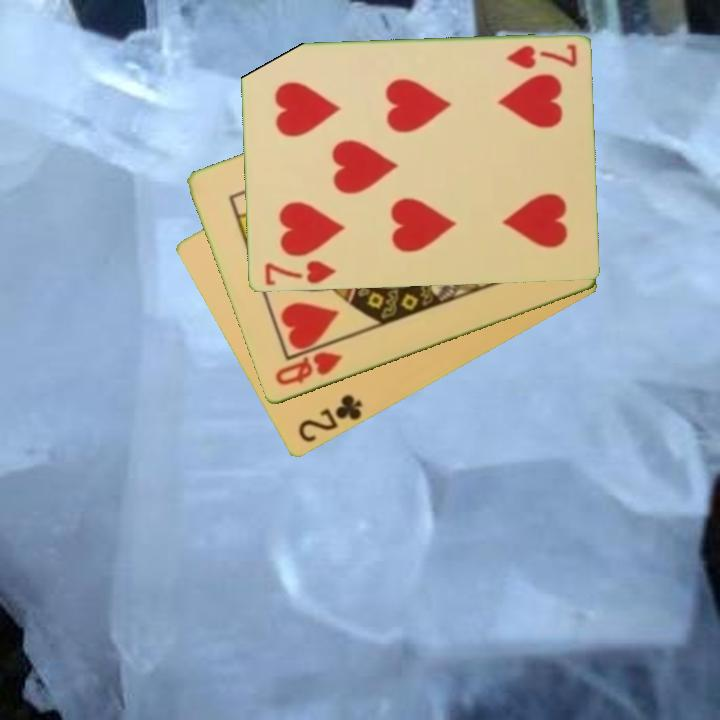2c: (294, 391, 366, 446)
7h: (260, 257, 339, 289), (503, 41, 580, 72)
Qh: (271, 348, 345, 389)
